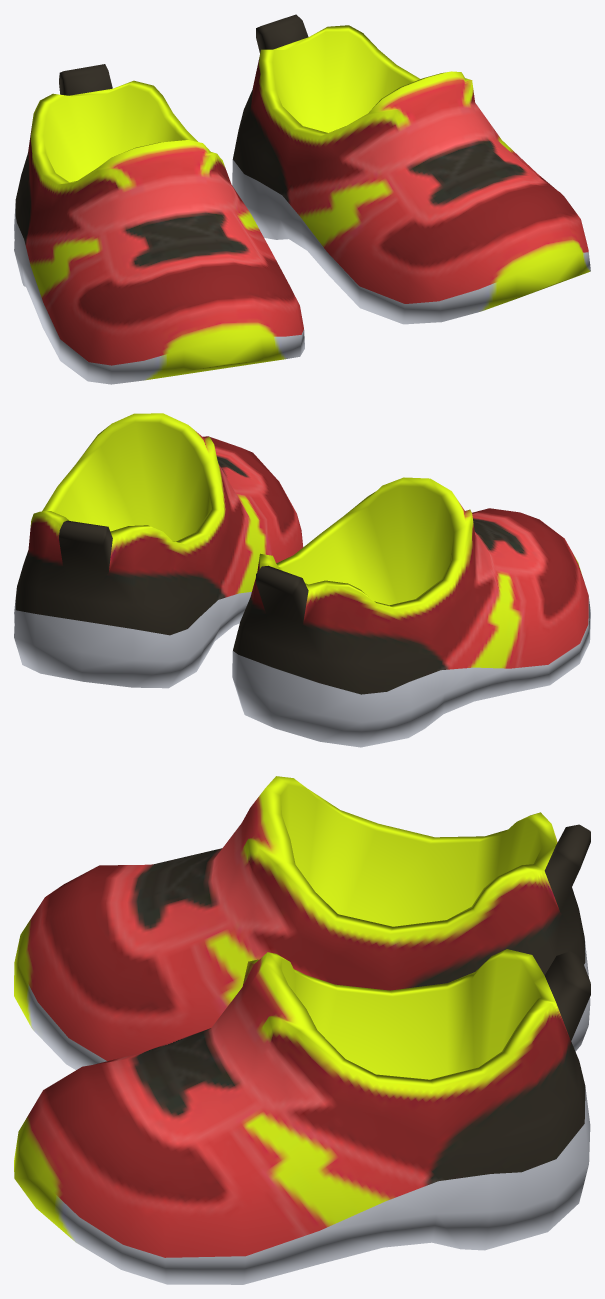
File: ShoesHighcutSports0.glb
3 renders of one model, top to bottom at view 1: azimuth 30°, elevation 25°; view 2: azimuth 150°, elevation 25°; view 3: azimuth 270°, elevation 25°, orthographic. The views are drawn at different scales.
Visible parts, largest first — view 1: Body__mShoes; view 2: Body__mShoes; view 3: Body__mShoes.
Part boxes in pixels (x1,y1,x2,y2): Body__mShoes: (14, 14, 590, 384); Body__mShoes: (14, 413, 590, 747); Body__mShoes: (14, 776, 590, 1284).
Bounding box in the file's own units: 3.48 × 1.26 × 2.64.
1 material, 1 textured.
